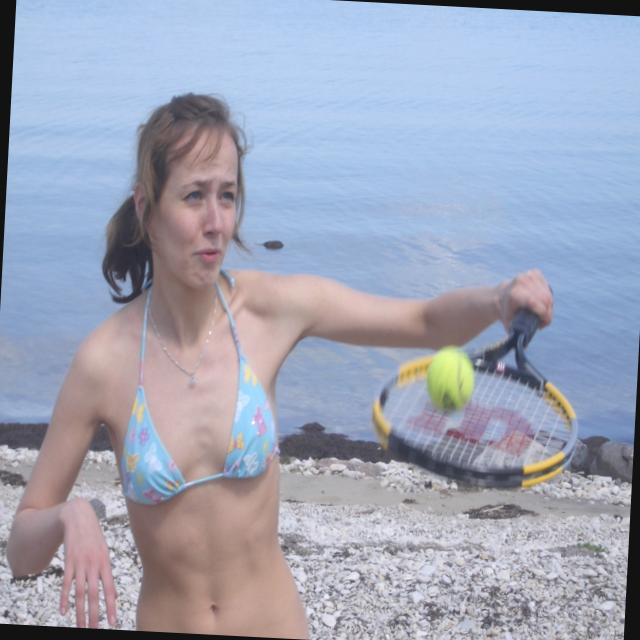Tennis Ball: (424, 346, 476, 416)
